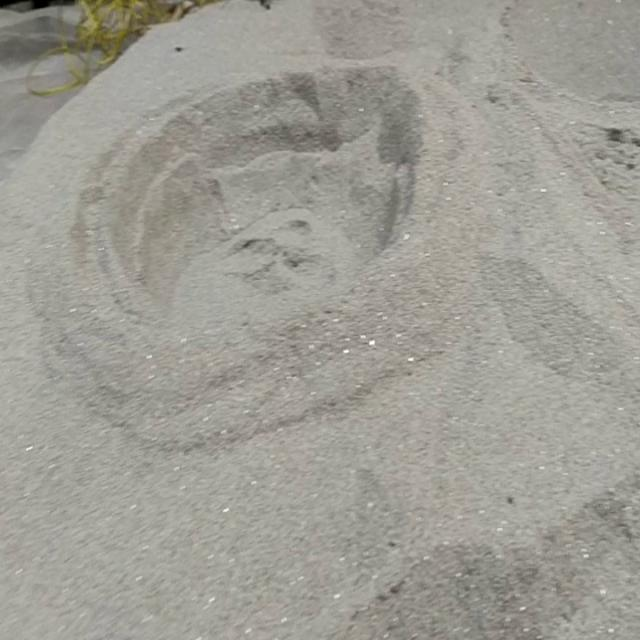C20: (84, 69, 421, 344)
